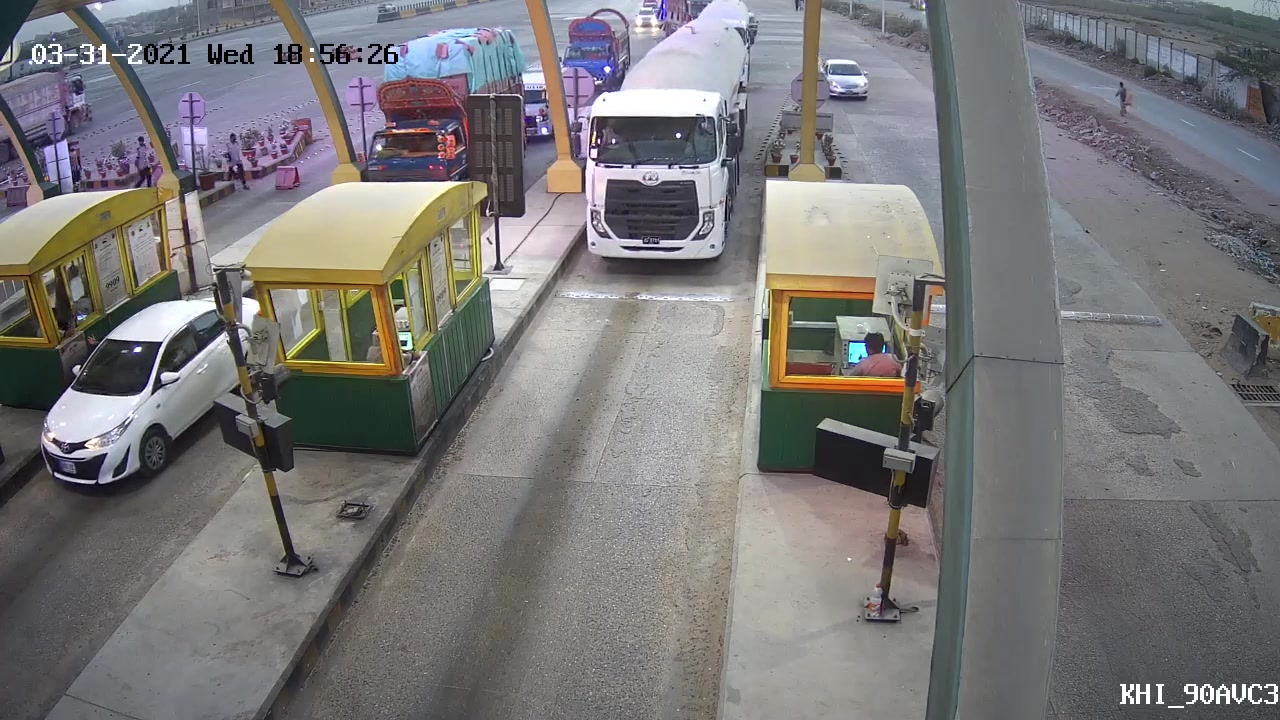F6: (568, 36, 751, 267)
